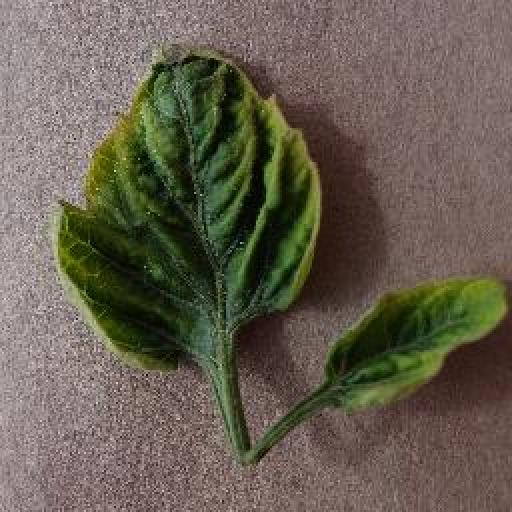disease_tomato: (54, 33, 323, 383), (318, 270, 512, 412)
